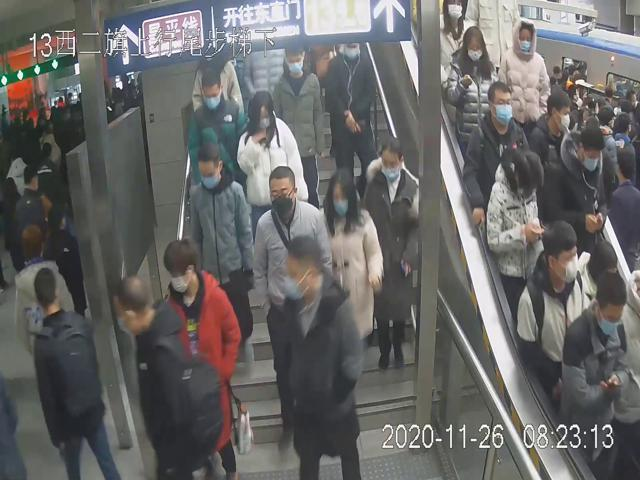person: (110, 275, 224, 480), (161, 238, 251, 476), (280, 234, 363, 480), (252, 164, 331, 412), (558, 272, 631, 480), (359, 136, 422, 370), (187, 138, 255, 352), (514, 218, 590, 401), (326, 164, 385, 351), (461, 79, 529, 228), (237, 89, 308, 224), (272, 42, 326, 195), (445, 22, 503, 148), (186, 67, 247, 178)
